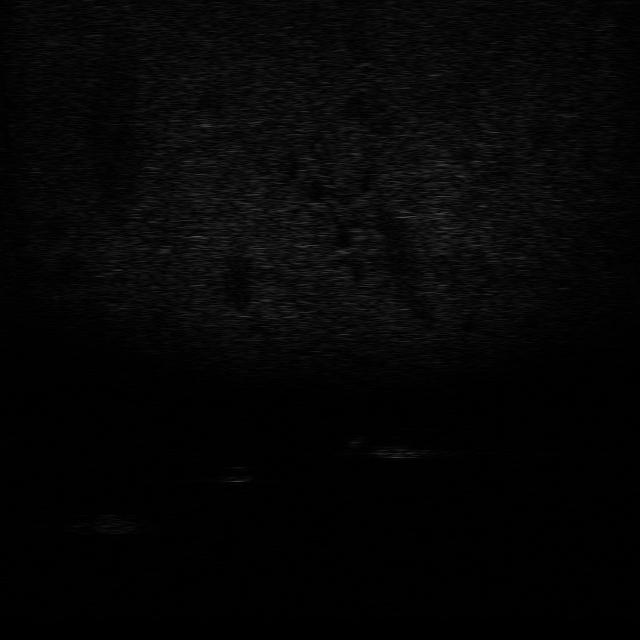ball: (208, 460, 256, 485)
circle cage: (61, 508, 140, 538)
human body: (338, 432, 452, 461)
